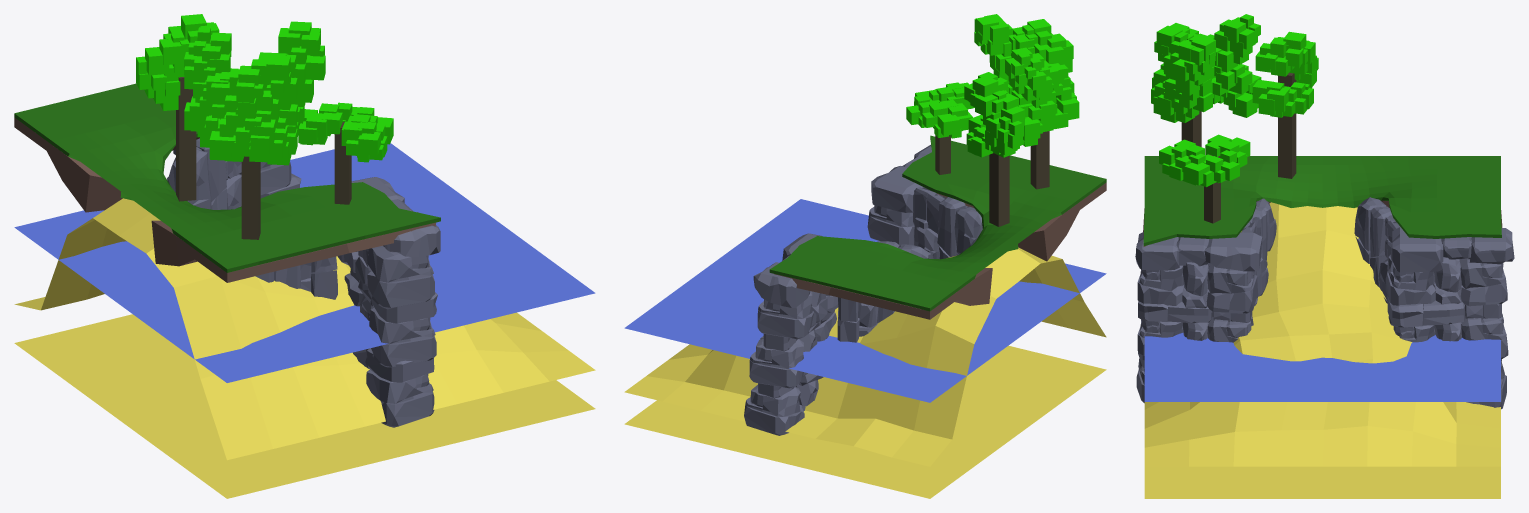
The model's file is 41__tile.fbx.
3 renders of one model, left to right at view 1: azimuth 30°, elevation 25°; view 2: azimuth 150°, elevation 25°; view 3: azimuth 270°, elevation 25°, orthographic. The views are drawn at different scales.
Parts seen in each view (by area): view 1: 41__tile; view 2: 41__tile; view 3: 41__tile.
Part boxes in pixels (x1,y1,x2,y2): 41__tile: (14,14,595,498); 41__tile: (624,14,1106,498); 41__tile: (1135,14,1514,498).
Bounding box in the file's own units: 200 × 218 × 213.
